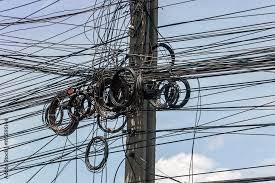wires-only: (1, 36, 204, 176)
